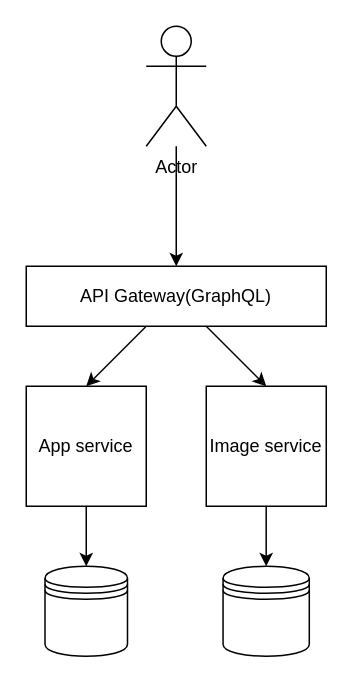
Some shapes in this 353 by 683 pixel diagram are drawn without their labels. The centre of each missing label's shape, as x and y in pixels:
"Local store" belongs at point 265,610.
"PostgreSQL" belongs at point 86,610.
